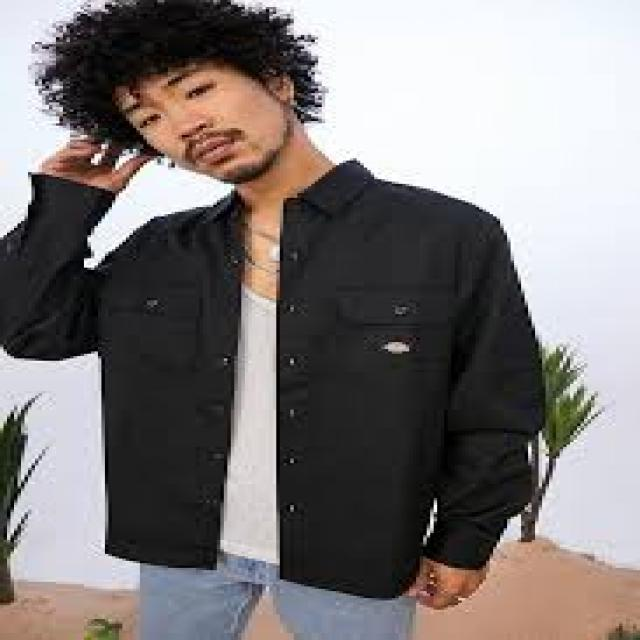plain: (3, 180, 538, 594)
